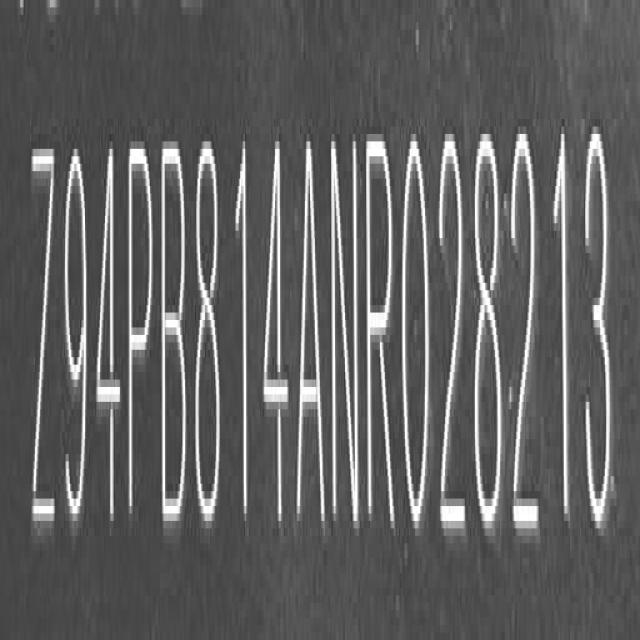0: (397, 130, 432, 529)
1: (550, 116, 575, 532), (234, 138, 254, 540)
2: (433, 110, 470, 538), (508, 126, 543, 534)
3: (580, 110, 614, 538)
4: (259, 132, 291, 535), (92, 132, 124, 529)
8: (471, 127, 504, 537), (192, 127, 224, 543)
9: (62, 146, 90, 546)
A: (293, 121, 326, 521)
B: (158, 124, 188, 540)
N: (328, 119, 362, 524)
P: (126, 140, 155, 516)
R: (365, 110, 399, 532)
Z: (28, 138, 61, 546)
